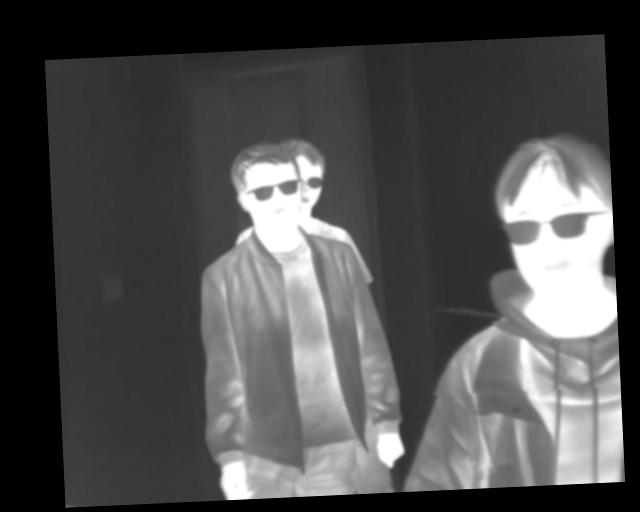face: (492, 129, 613, 297), (229, 139, 303, 240)
